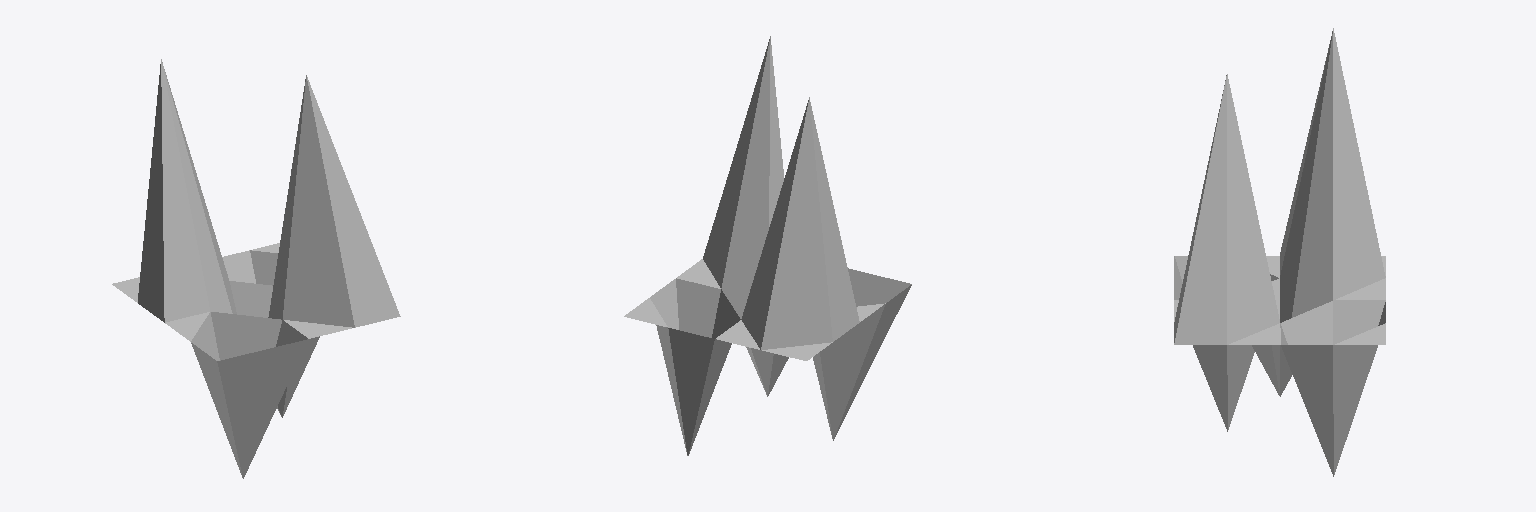
The model's file is BiggerWavy5x5.obj.
The picture shows the model from 3 angles: view 1: azimuth 30°, elevation 25°; view 2: azimuth 150°, elevation 25°; view 3: azimuth 270°, elevation 25°; orthographic projection.
Parts seen in each view (by area): view 1: Plane; view 2: Plane; view 3: Plane.
Part boxes in pixels (x1,y1,x2,y2): Plane: (112, 59, 400, 478); Plane: (624, 36, 911, 455); Plane: (1174, 28, 1385, 476).
Size of the model in its own units: 4 by 8.12 by 3.99.